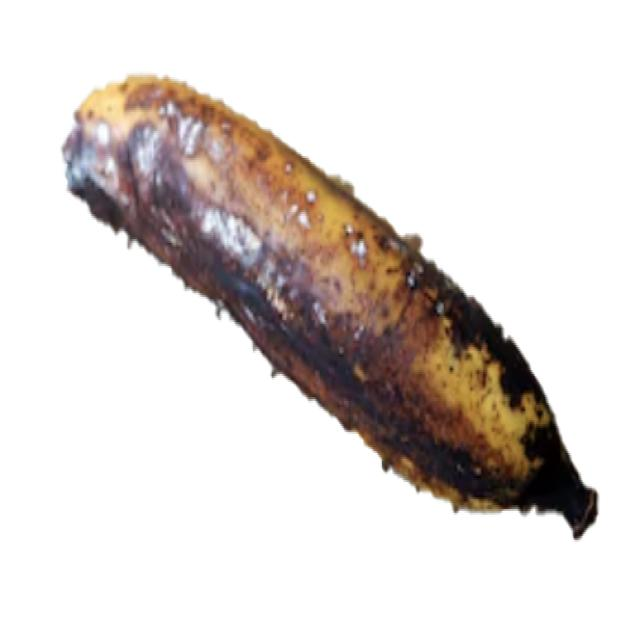rotten-banana: (61, 69, 600, 540)
